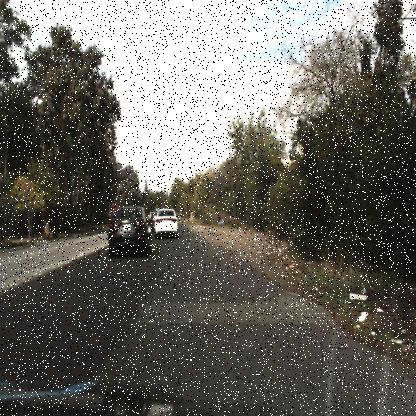car: (106, 204, 152, 259), (150, 200, 180, 244), (152, 207, 178, 238)
